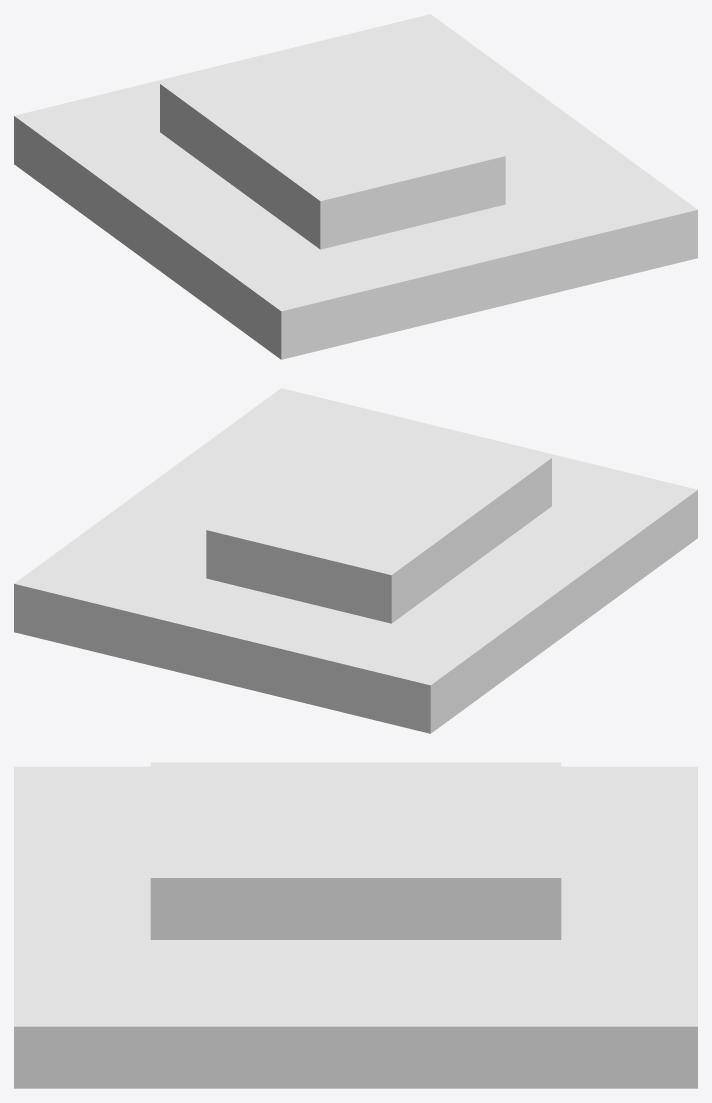
File: Bird.obj
3 renders of one model, top to bottom at view 1: azimuth 30°, elevation 25°; view 2: azimuth 150°, elevation 25°; view 3: azimuth 270°, elevation 25°, orthographic. The views are drawn at different scales.
Parts seen in each view (by area): view 1: mesh; view 2: mesh; view 3: mesh.
Part boxes in pixels (<box>): mesh: <box>14,14,697,359</box>; mesh: <box>14,388,697,733</box>; mesh: <box>14,762,697,1088</box>.
Size of the model in its own units: 0.9 by 0.2 by 1.
Materials: 1 (1 with a texture image).
